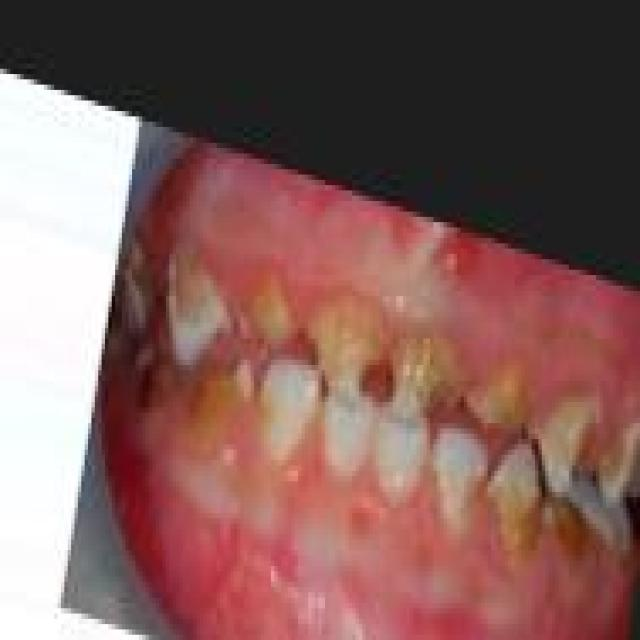caries: (308, 285, 382, 410), (384, 328, 457, 432), (163, 247, 229, 358), (537, 382, 596, 497), (484, 442, 539, 563), (193, 354, 256, 449), (462, 346, 524, 431), (596, 417, 640, 511), (539, 486, 589, 568), (245, 283, 297, 356)
